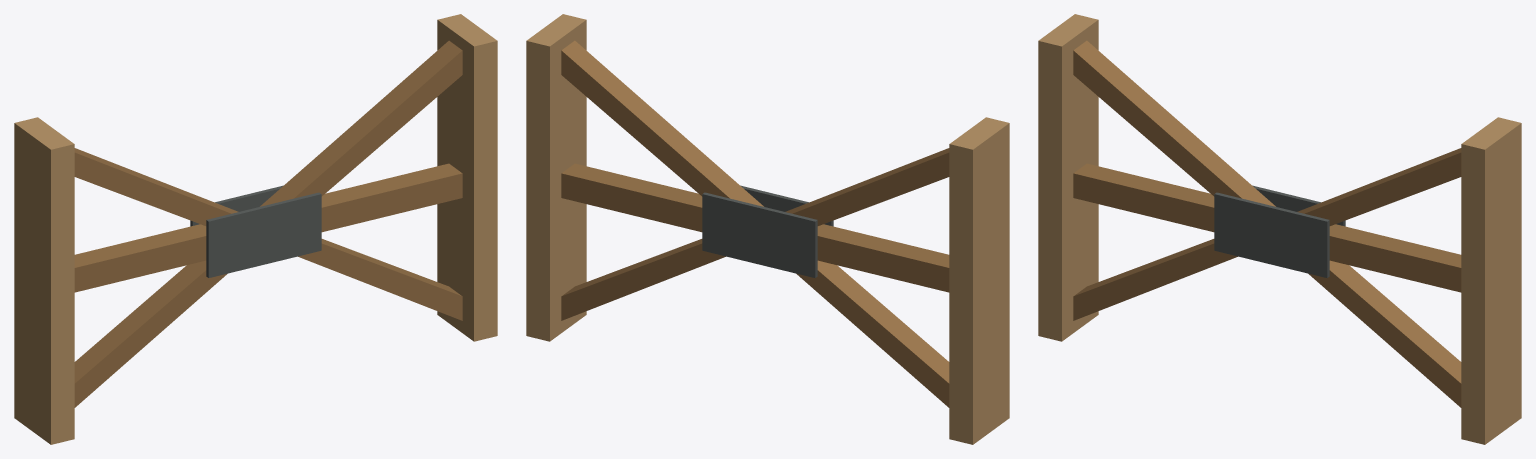
The picture shows the model from 3 angles, left to right: view 1: azimuth 30°, elevation 25°; view 2: azimuth 150°, elevation 25°; view 3: azimuth 330°, elevation 25°; orthographic projection.
Parts seen in each view (by area): view 1: LeftWholeWallBearingPlate, RightWholeWallBearingPlate, WholeHorizontalFlyingStrut, RightUpperFullCutEndRaker, FrontFixedCentralCheek, LeftLowerFullCutEndRaker, RightLowerFullCutEndRaker, LeftUpperFullCutEndRaker, RearFixedCentralCheek; view 2: LeftWholeWallBearingPlate, RightWholeWallBearingPlate, WholeHorizontalFlyingStrut, RightUpperFullCutEndRaker, RearFixedCentralCheek, LeftLowerFullCutEndRaker, RightLowerFullCutEndRaker, LeftUpperFullCutEndRaker, FrontFixedCentralCheek; view 3: RightWholeWallBearingPlate, LeftWholeWallBearingPlate, WholeHorizontalFlyingStrut, LeftUpperFullCutEndRaker, FrontFixedCentralCheek, RightLowerFullCutEndRaker, LeftLowerFullCutEndRaker, RightUpperFullCutEndRaker, RearFixedCentralCheek.
Part boxes in pixels (x1,y1,x2,y2): LeftWholeWallBearingPlate: (14, 117, 74, 444); RightWholeWallBearingPlate: (437, 14, 497, 341); WholeHorizontalFlyingStrut: (74, 163, 462, 292); RightUpperFullCutEndRaker: (260, 40, 462, 206); FrontFixedCentralCheek: (206, 192, 321, 277); LeftLowerFullCutEndRaker: (74, 260, 227, 407); RightLowerFullCutEndRaker: (298, 239, 462, 320); LeftUpperFullCutEndRaker: (74, 148, 238, 225); RearFixedCentralCheek: (190, 185, 283, 226); LeftWholeWallBearingPlate: (949, 117, 1009, 444); RightWholeWallBearingPlate: (526, 14, 586, 341); WholeHorizontalFlyingStrut: (561, 163, 949, 292); RightUpperFullCutEndRaker: (561, 40, 763, 206); RearFixedCentralCheek: (702, 192, 817, 277); LeftLowerFullCutEndRaker: (796, 260, 949, 407); RightLowerFullCutEndRaker: (561, 239, 725, 320); LeftUpperFullCutEndRaker: (785, 148, 949, 225); FrontFixedCentralCheek: (740, 185, 833, 226); RightWholeWallBearingPlate: (1461, 117, 1521, 444); LeftWholeWallBearingPlate: (1038, 14, 1098, 341); WholeHorizontalFlyingStrut: (1073, 163, 1461, 292); LeftUpperFullCutEndRaker: (1073, 40, 1275, 206); FrontFixedCentralCheek: (1214, 192, 1329, 277); RightLowerFullCutEndRaker: (1308, 260, 1461, 407); LeftLowerFullCutEndRaker: (1073, 239, 1237, 320); RightUpperFullCutEndRaker: (1297, 148, 1461, 225); RearFixedCentralCheek: (1252, 185, 1345, 226).
Size of the model in its own units: 3.8 by 2.4 by 0.54.
